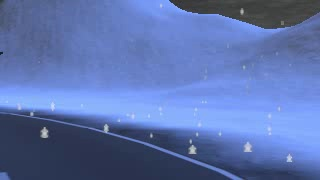Lane: (0, 111, 242, 179)
